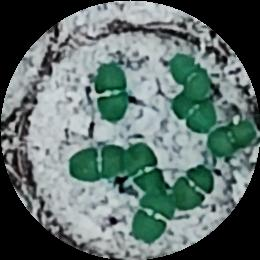Basil: (69, 143, 128, 181), (125, 141, 166, 192), (173, 167, 218, 210), (94, 68, 133, 117), (132, 195, 175, 239), (170, 55, 210, 100), (173, 94, 214, 135), (211, 120, 254, 157)
